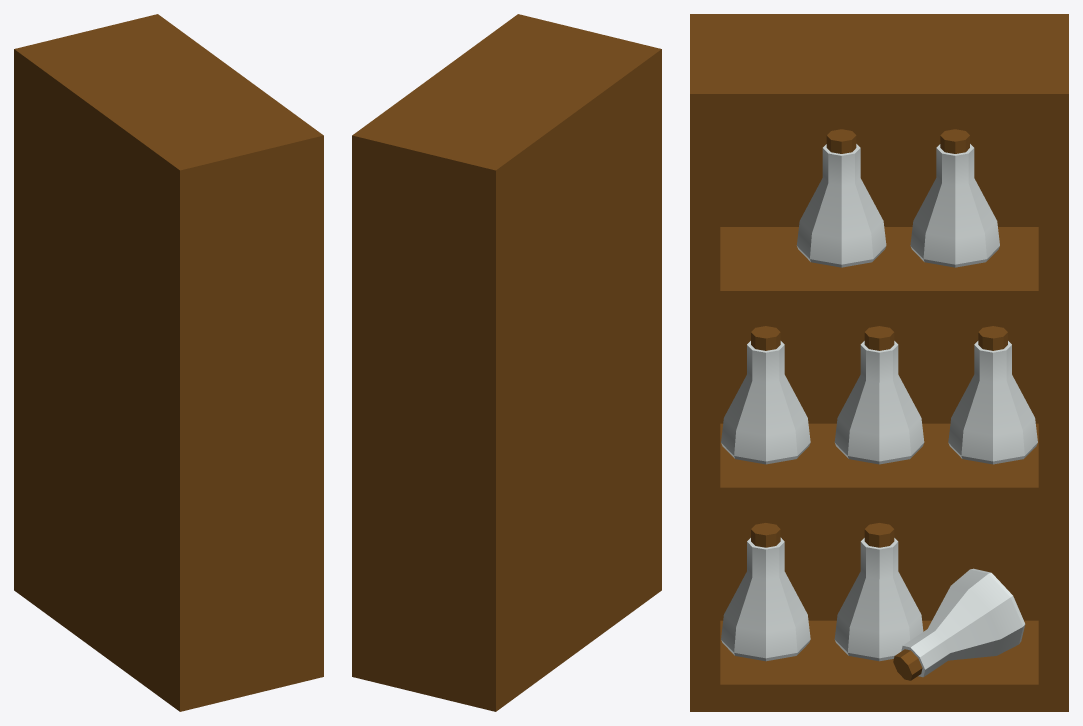
The model's file is FlaskBox.fbx.
The picture shows the model from 3 angles, left to right: view 1: azimuth 30°, elevation 25°; view 2: azimuth 150°, elevation 25°; view 3: azimuth 270°, elevation 25°; orthographic projection. The views are drawn at different scales.
Parts seen in each view (by area): view 1: FlaskBox; view 2: FlaskBox; view 3: FlaskBox.
Part boxes in pixels (x1,y1,x2,y2): FlaskBox: (14,14,323,711); FlaskBox: (352,14,661,711); FlaskBox: (690,14,1068,711).
Bounding box in the file's own units: 51.19 × 180 × 100.
